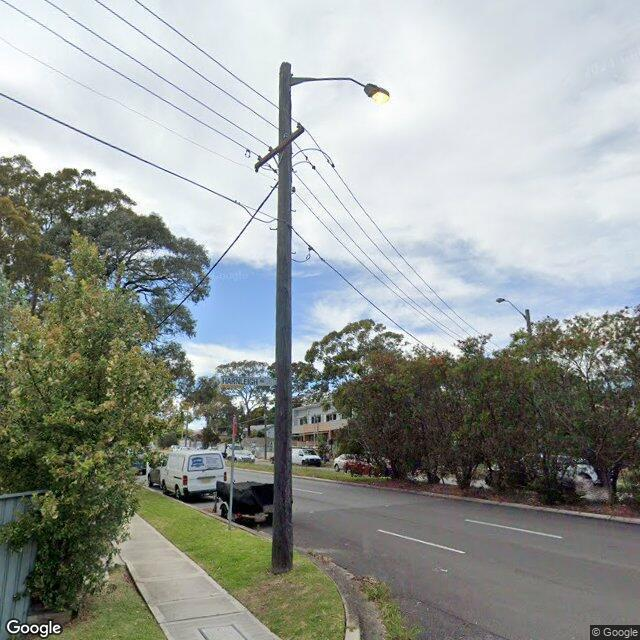crossarm: (254, 127, 305, 170)
streetlight: (290, 76, 390, 105), (496, 297, 527, 320)
timber-pole: (270, 61, 292, 575), (525, 309, 545, 476)
